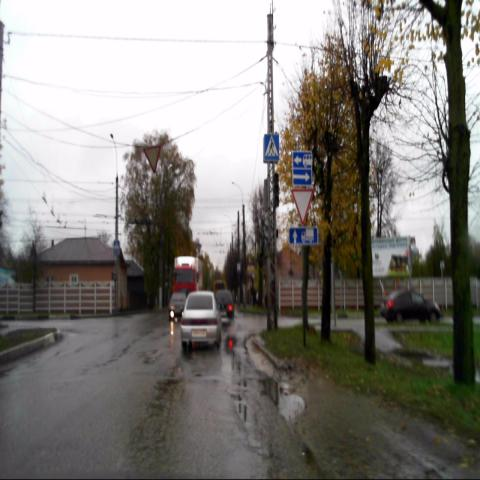2_4: (290, 188, 314, 225)
5_7_1: (292, 170, 312, 186)
6_15_1: (289, 227, 317, 244)
6_15_3: (292, 151, 313, 170)
